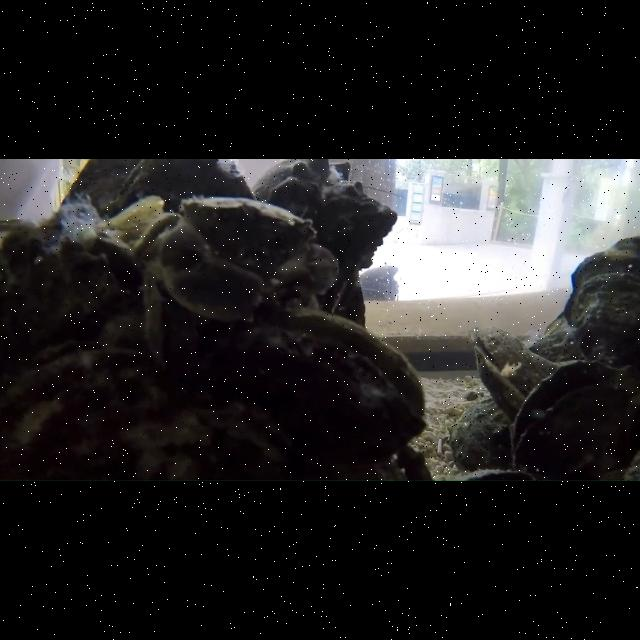Oyster-Closed: (248, 310, 425, 460), (254, 160, 396, 324), (0, 341, 165, 479), (0, 219, 129, 359), (102, 155, 258, 226), (569, 272, 640, 373)
Oyster-Open: (511, 361, 640, 479), (469, 328, 559, 419)
